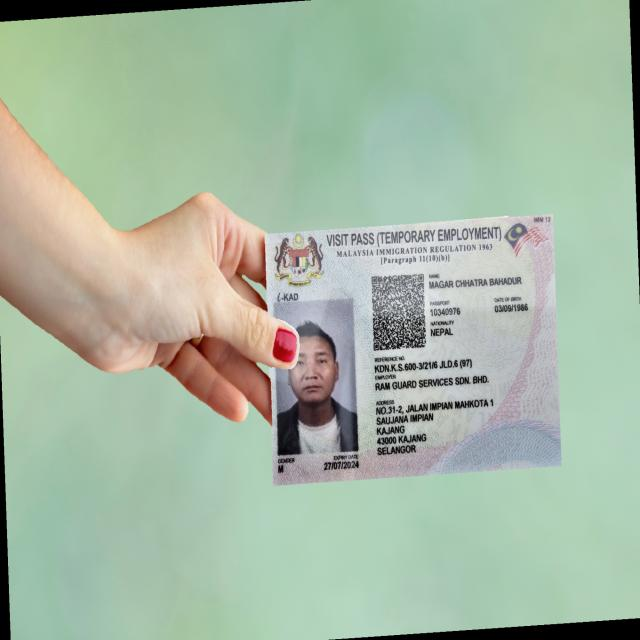ikad-temp: (263, 214, 561, 484)
